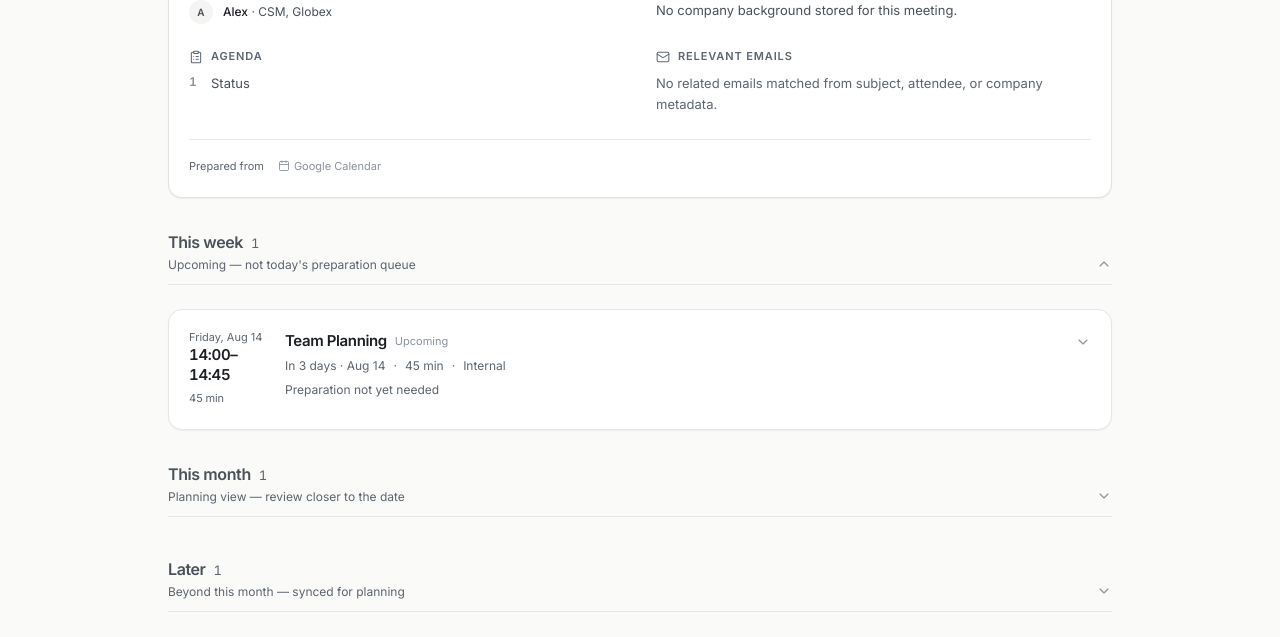
Scenario: MeetingsPage hierarchy › does not merge later meetings into This month
(page scrolled)
Click the button "Later1 Beyond this month — synced for planning".
click(187, 569)  # box [168,557,1112,612]
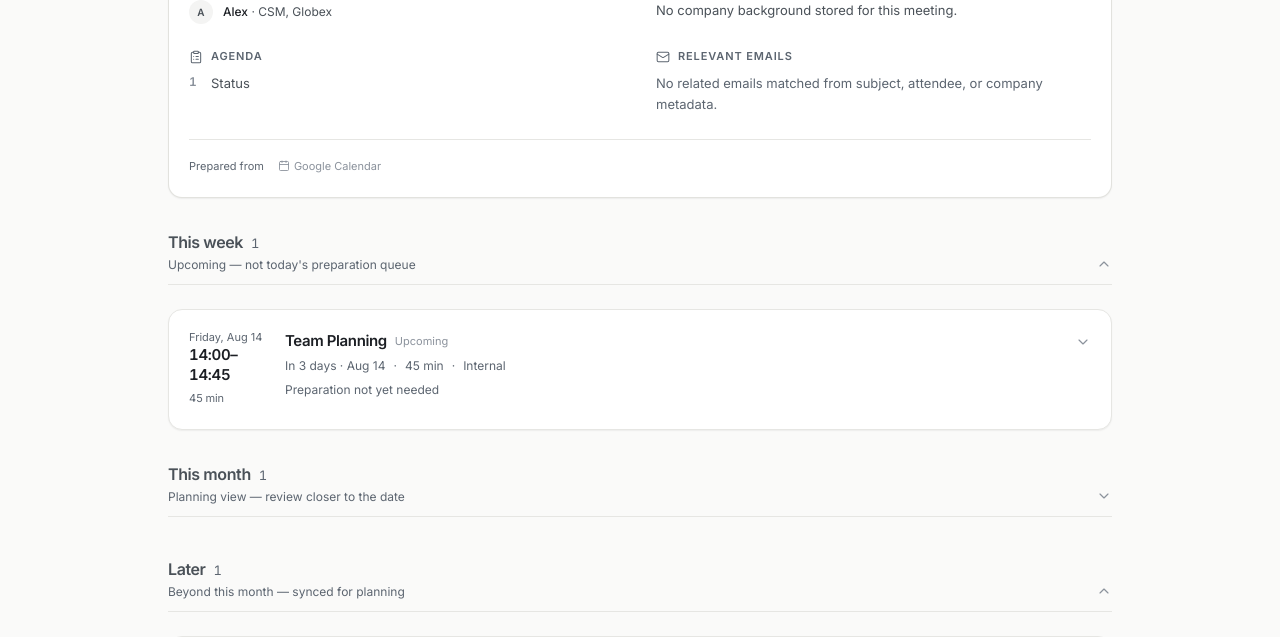
Click the button "This month1 Planning view — review closer to the date".
click(209, 474)  # box [168,462,1112,517]
(page scrolled)
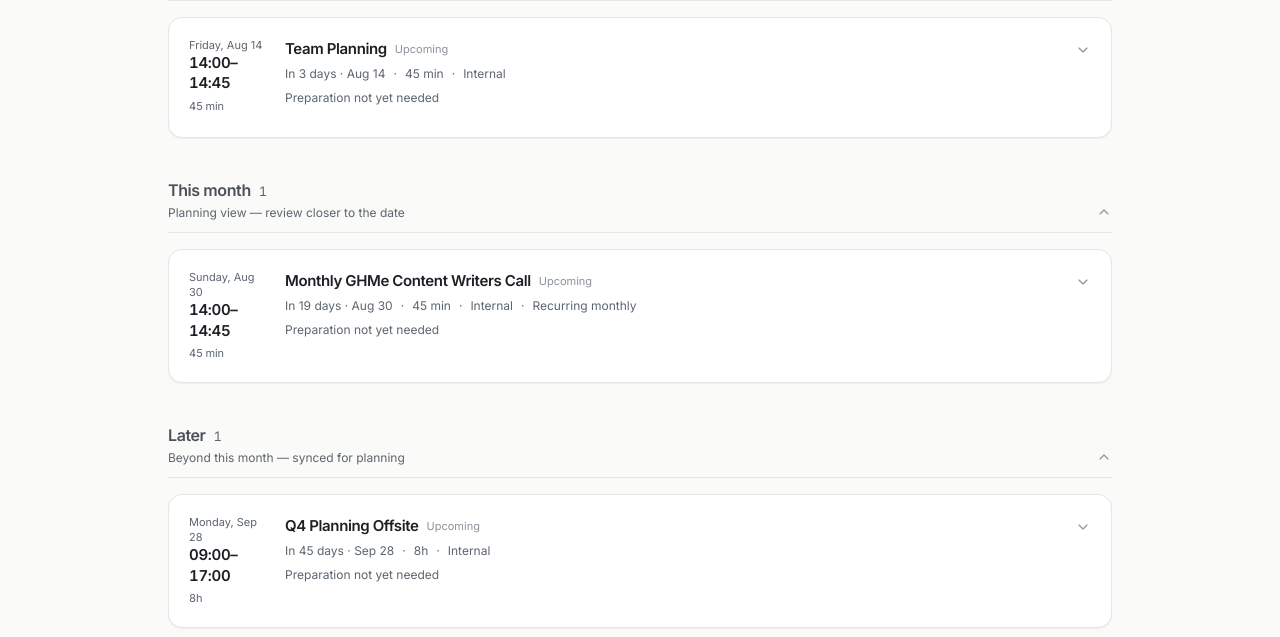
expect the heading "Q4 Planning Offsite" is shown: met, box [285,515,418,537]
expect the heading "Monthly GHMe Content Writers Call" is shown: met, box [285,270,531,292]
